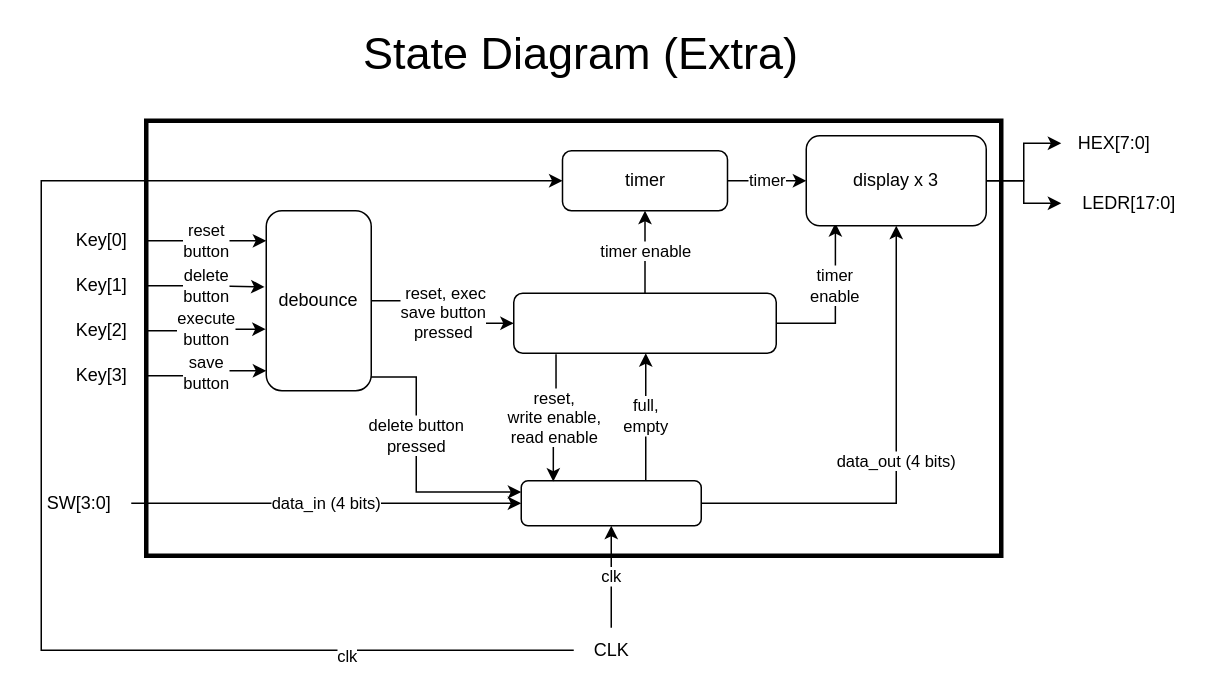
The diagram is 1221 pixels wide and 698 high, and some of its shapes have lost their labels. Here are the shapes that lost their labels. From the top down, the box of each, then its label:
(512, 292, 776, 353): FSM
(520, 479, 701, 526): FIFO
